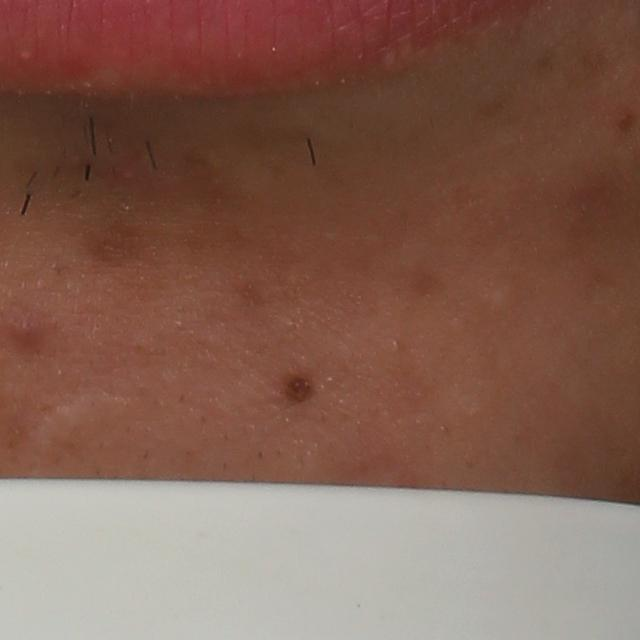hypertrophic_scar: (27, 388, 129, 471)
nevus: (282, 370, 319, 410)
